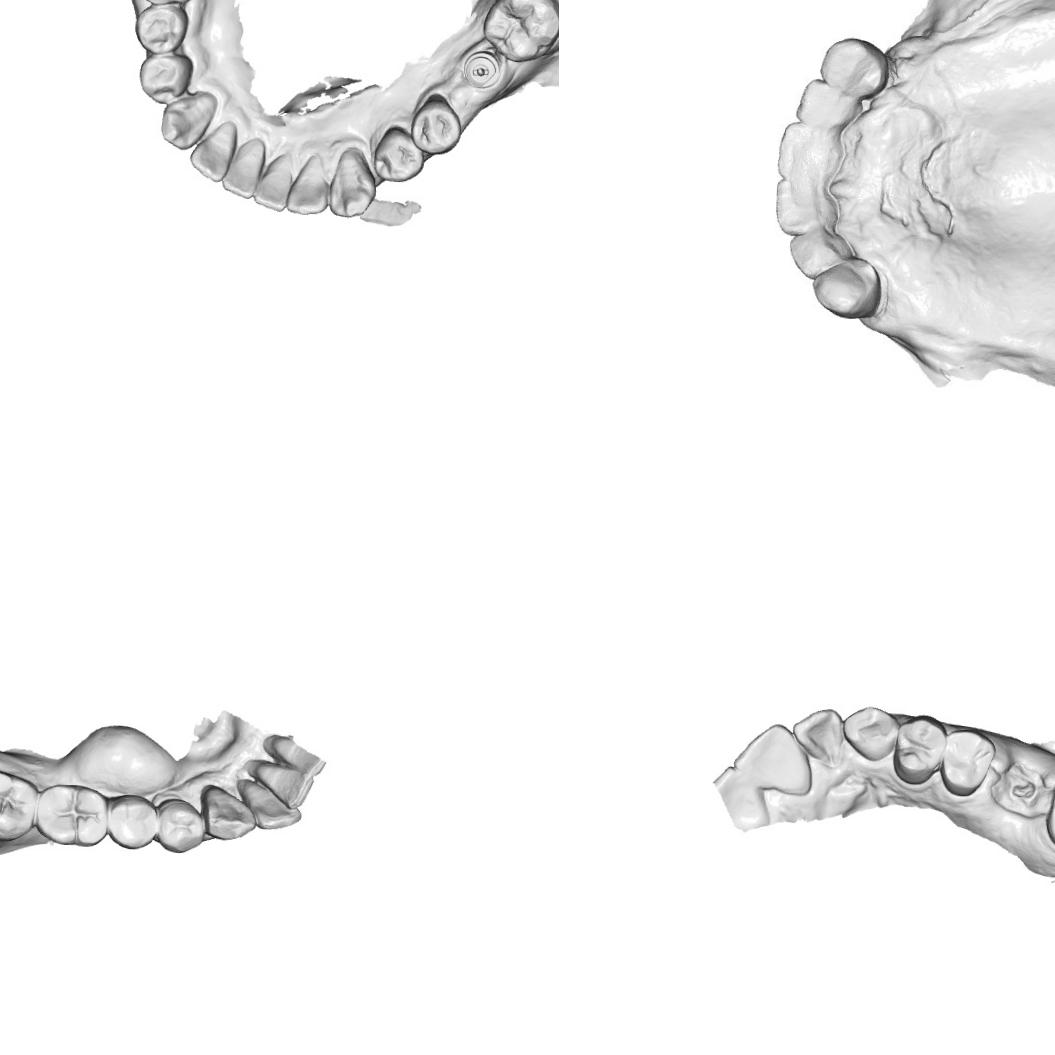canine: (811, 256, 881, 322), (819, 34, 891, 98), (840, 703, 902, 765), (328, 144, 378, 220), (158, 90, 218, 152), (200, 784, 258, 843)
implant_minus: (462, 48, 502, 88)
incisor: (729, 720, 816, 799), (772, 118, 847, 183), (235, 777, 304, 834), (790, 78, 864, 128), (774, 178, 837, 236), (790, 706, 848, 769), (246, 762, 316, 811), (786, 229, 850, 280), (188, 119, 237, 184), (285, 153, 331, 216), (221, 138, 266, 200), (252, 152, 293, 212)
molar: (34, 780, 110, 849), (481, 0, 559, 64), (0, 766, 43, 845)
premolar: (890, 712, 948, 788), (940, 724, 996, 800), (407, 90, 463, 156), (103, 792, 160, 852), (153, 796, 210, 856), (372, 126, 426, 183), (133, 2, 189, 56), (136, 53, 193, 106)
